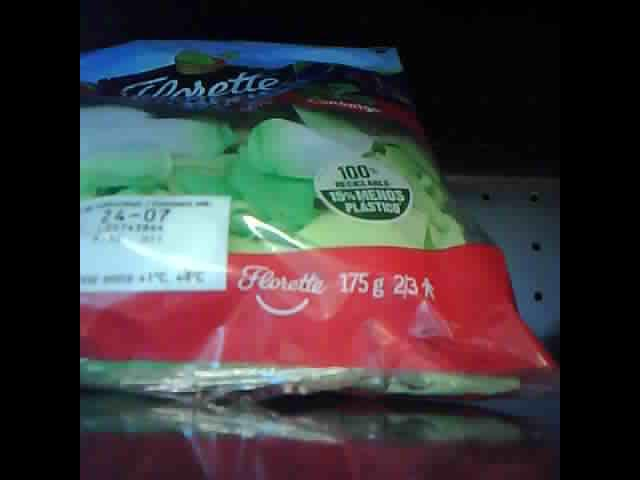florette: (82, 34, 561, 399)
